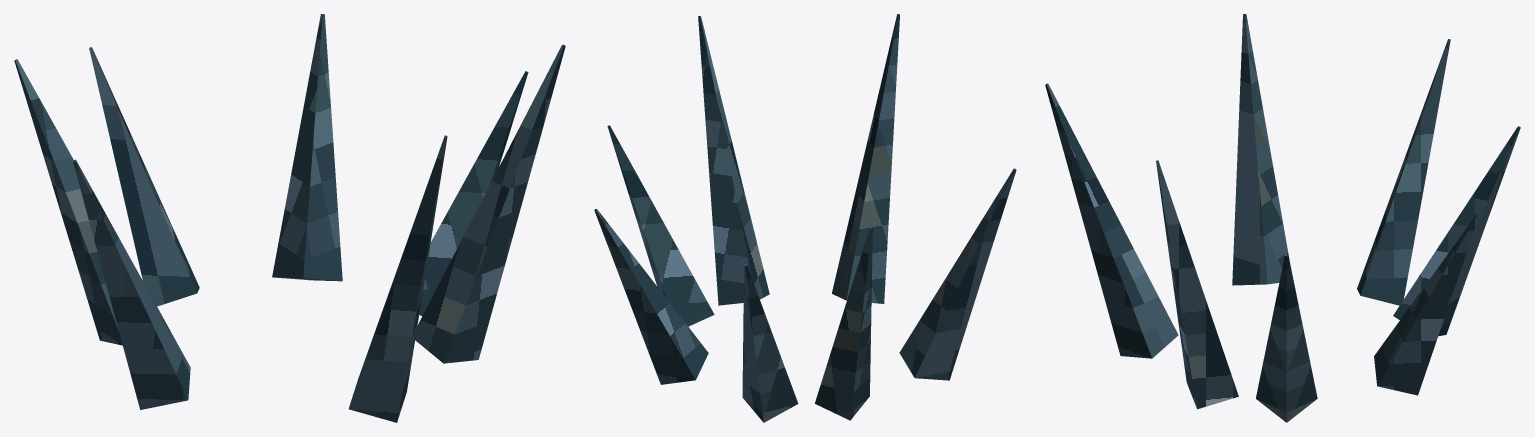
The model's file is enfeite_capim.glb.
3 renders of one model, left to right at view 1: azimuth 30°, elevation 25°; view 2: azimuth 150°, elevation 25°; view 3: azimuth 270°, elevation 25°, orthographic. The views are drawn at different scales.
Parts seen in each view (by area): view 1: neve_enfeite_capim; view 2: neve_enfeite_capim; view 3: neve_enfeite_capim.
Part boxes in pixels (left/top/right/bottom): neve_enfeite_capim: left=14, top=14, right=565, bottom=422; neve_enfeite_capim: left=594, top=14, right=1016, bottom=422; neve_enfeite_capim: left=1045, top=14, right=1520, bottom=422.
Bounding box in the file's own units: 0.2797 × 0.1784 × 0.2765.
1 material, 1 textured.
